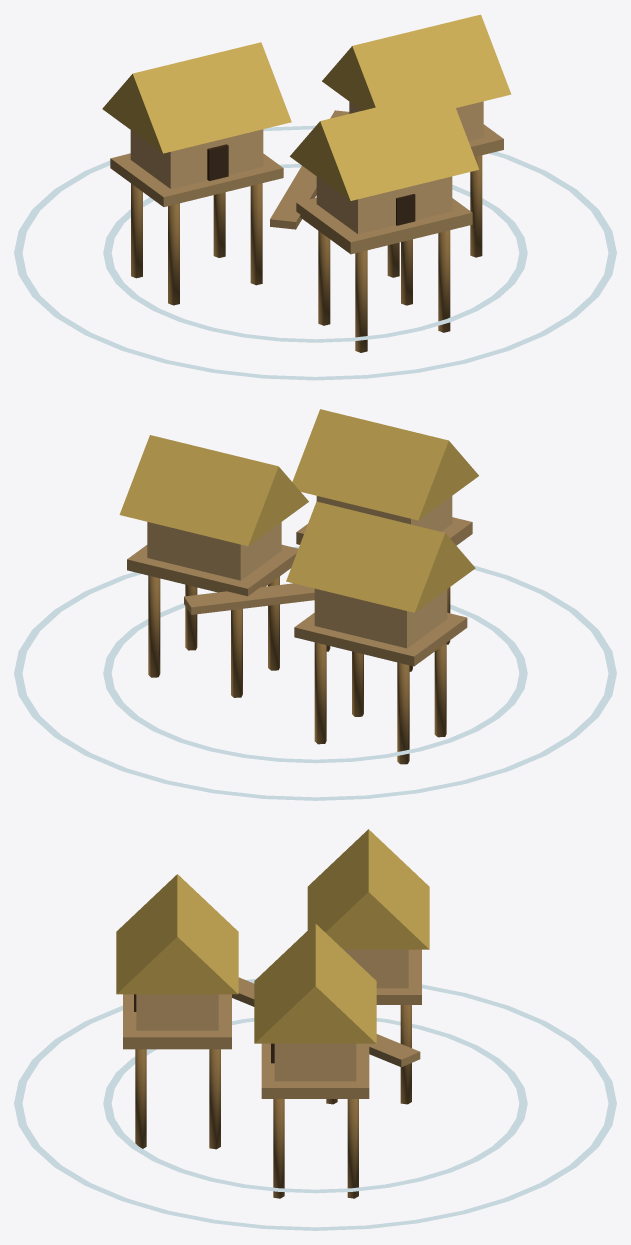
File: improvement_kampung.fbx
3 views of the same model, one above another, from view 1: azimuth 30°, elevation 25°; view 2: azimuth 150°, elevation 25°; view 3: azimuth 270°, elevation 25° (orthographic).
Visible parts, largest first — view 1: improvement_kampung_thatch.001_04, improvement_kampung_wood#8a6a3a.003_01, improvement_kampung_foam_ring.007_00, improvement_kampung_kfloor_02, improvement_kampung_kwall_03, improvement_kampung_door.003_05; view 2: improvement_kampung_thatch.001_04, improvement_kampung_kwall_03, improvement_kampung_foam_ring.007_00, improvement_kampung_kfloor_02, improvement_kampung_wood#8a6a3a.003_01; view 3: improvement_kampung_thatch.001_04, improvement_kampung_foam_ring.007_00, improvement_kampung_kfloor_02, improvement_kampung_kwall_03, improvement_kampung_wood#8a6a3a.003_01.
Part boxes in pixels (x1=…): improvement_kampung_thatch.001_04: x1=102, y1=14, x2=511, y2=200; improvement_kampung_wood#8a6a3a.003_01: x1=131, y1=155, x2=482, y2=352; improvement_kampung_foam_ring.007_00: x1=14, y1=125, x2=616, y2=380; improvement_kampung_kfloor_02: x1=110, y1=110, x2=503, y2=254; improvement_kampung_kwall_03: x1=130, y1=101, x2=483, y2=234; improvement_kampung_door.003_05: x1=207, y1=144, x2=415, y2=225; improvement_kampung_thatch.001_04: x1=119, y1=409, x2=478, y2=612; improvement_kampung_kwall_03: x1=147, y1=496, x2=452, y2=648; improvement_kampung_foam_ring.007_00: x1=14, y1=546, x2=616, y2=800; improvement_kampung_kfloor_02: x1=127, y1=517, x2=472, y2=666; improvement_kampung_wood#8a6a3a.003_01: x1=148, y1=575, x2=450, y2=764; improvement_kampung_thatch.001_04: x1=116, y1=829, x2=429, y2=1043; improvement_kampung_foam_ring.007_00: x1=14, y1=979, x2=616, y2=1230; improvement_kampung_kfloor_02: x1=123, y1=949, x2=421, y2=1098; improvement_kampung_kwall_03: x1=136, y1=949, x2=408, y2=1081; improvement_kampung_wood#8a6a3a.003_01: x1=135, y1=1005, x2=411, y2=1198.
Size of the model in its own units: 114 by 46 by 114.
